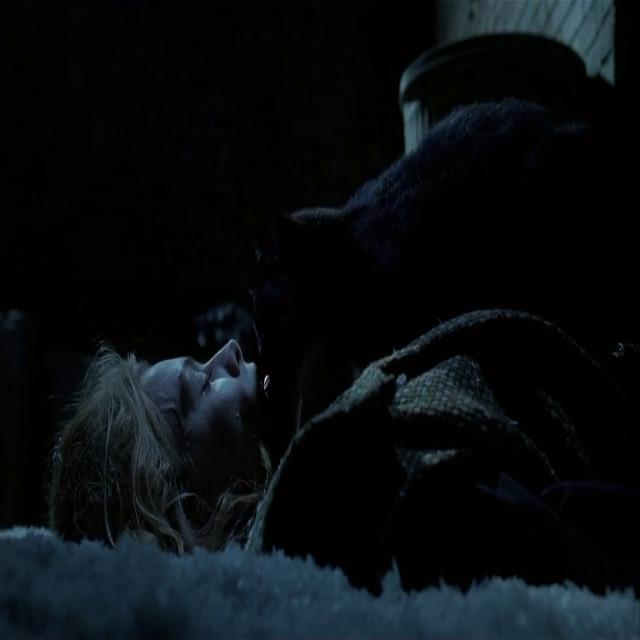Cat: (244, 82, 633, 379)
People: (60, 329, 640, 579)
